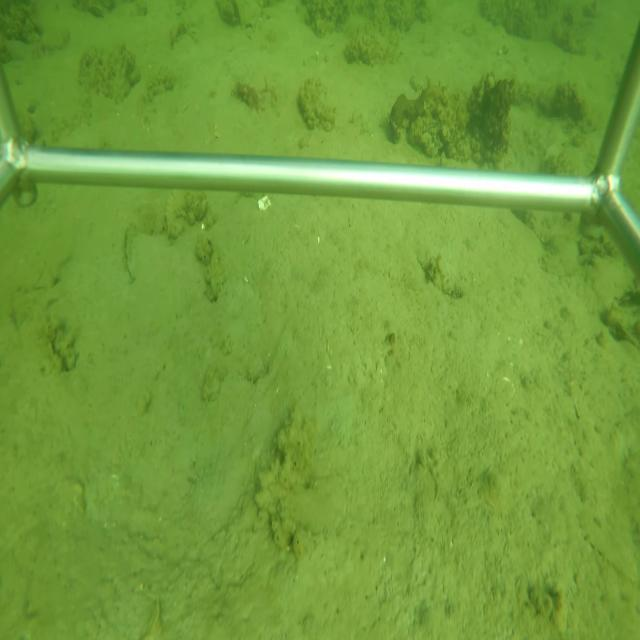Oyster-Indeterminate: (121, 225, 194, 282)
